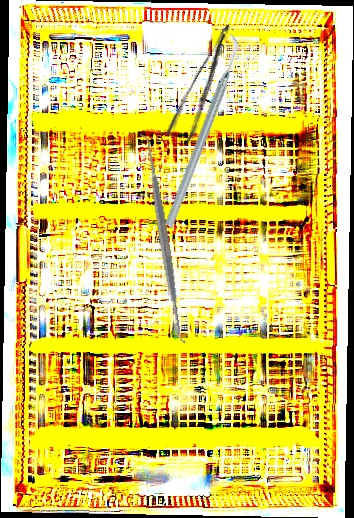Chopper: (102, 31, 300, 231)
Dressing Forceps: (163, 22, 250, 147)
Spatula Surgical: (134, 130, 193, 346)
